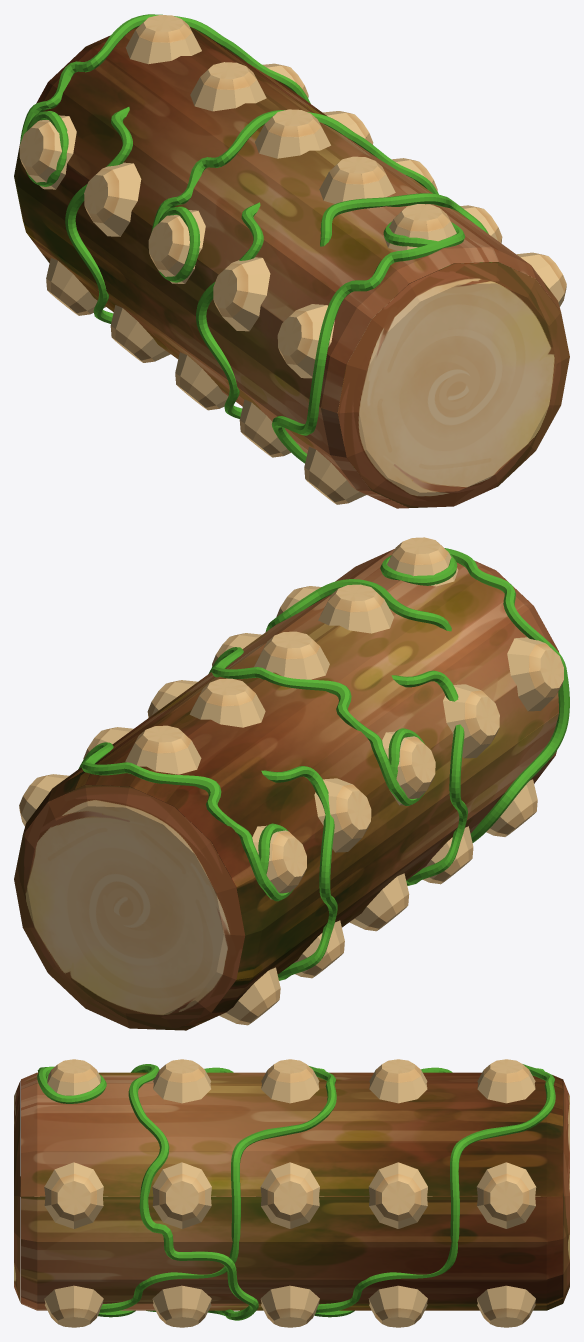
File: RollingLogComplete.fbx
The picture shows the model from 3 angles, top to bottom: view 1: azimuth 30°, elevation 25°; view 2: azimuth 150°, elevation 25°; view 3: azimuth 270°, elevation 25°; orthographic projection. The views are drawn at different scales.
Visible parts, largest first — view 1: RollingLog; view 2: RollingLog; view 3: RollingLog.
Part boxes in pixels (<box>): RollingLog: <box>14,14,569,508</box>; RollingLog: <box>14,537,569,1030</box>; RollingLog: <box>14,1059,569,1327</box>.
Size of the model in its own units: 145 by 143 by 298.
